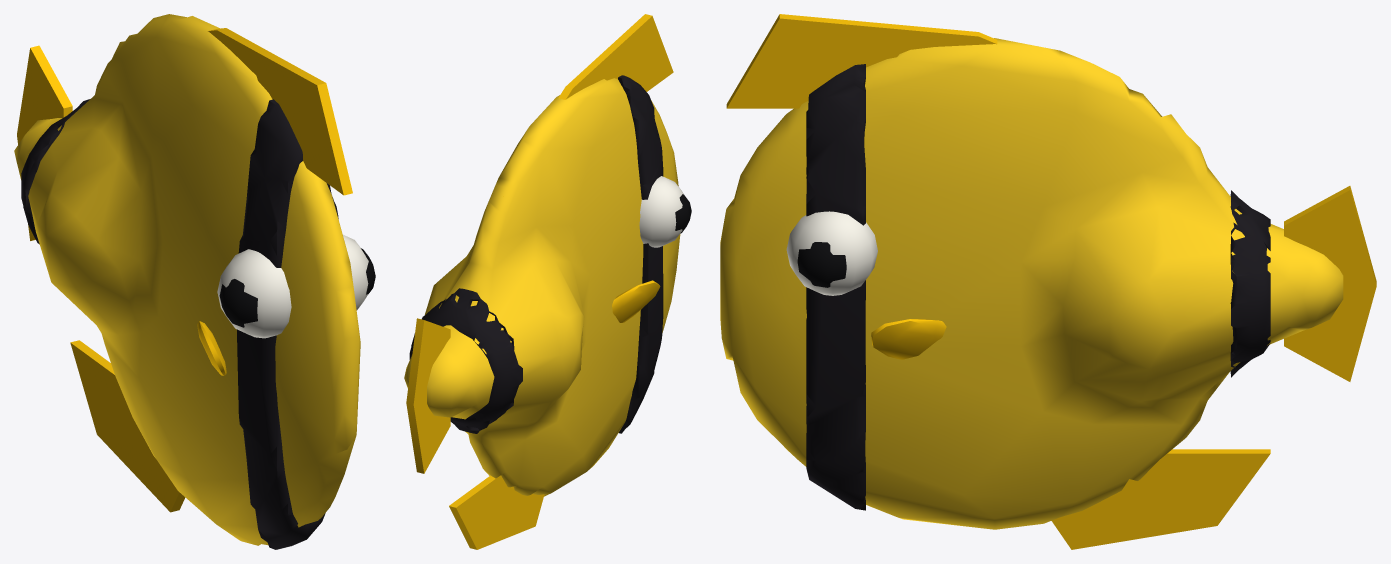
Rendered from butterfly.glb.
3 views of the same model, side by side, from view 1: azimuth 30°, elevation 25°; view 2: azimuth 150°, elevation 25°; view 3: azimuth 270°, elevation 25° (orthographic). The views are drawn at different scales.
Parts seen in each view (by area): view 1: body, band0, dorsal, anal, eye_mx, tail, band1, pupil_mx, eye, pectoral_mx; view 2: body, band0, band1, anal, dorsal, tail, eye_mx, pectoral_mx, pupil_mx; view 3: body, band0, anal, dorsal, tail, band1, eye, pectoral, pupil.
Boxes of the visible parts, x1=… form: body: x1=14, y1=14, x2=360, y2=545; band0: x1=237, y1=99, x2=338, y2=549; dorsal: x1=208, y1=28, x2=352, y2=195; anal: x1=70, y1=340, x2=185, y2=512; eye_mx: x1=217, y1=249, x2=291, y2=338; tail: x1=17, y1=45, x2=72, y2=240; band1: x1=21, y1=99, x2=89, y2=244; pupil_mx: x1=219, y1=279, x2=257, y2=327; eye: x1=343, y1=234, x2=368, y2=310; pectoral_mx: x1=197, y1=321, x2=226, y2=375; body: x1=404, y1=78, x2=680, y2=496; band0: x1=618, y1=75, x2=663, y2=433; band1: x1=409, y1=288, x2=522, y2=433; anal: x1=449, y1=475, x2=544, y2=549; dorsal: x1=503, y1=14, x2=673, y2=196; tail: x1=406, y1=318, x2=450, y2=473; eye_mx: x1=639, y1=176, x2=683, y2=247; pectoral_mx: x1=612, y1=280, x2=660, y2=322; pupil_mx: x1=675, y1=194, x2=691, y2=233; body: x1=720, y1=38, x2=1343, y2=529; band0: x1=806, y1=64, x2=865, y2=510; anal: x1=1051, y1=449, x2=1270, y2=549; dorsal: x1=726, y1=14, x2=1151, y2=108; tail: x1=1284, y1=186, x2=1376, y2=381; band1: x1=1230, y1=190, x2=1270, y2=377; eye: x1=786, y1=211, x2=877, y2=295; pectoral: x1=871, y1=319, x2=946, y2=359; pupil: x1=797, y1=242, x2=846, y2=287.
Size of the model in its own units: 0.3173 by 0.884 by 0.9897.
